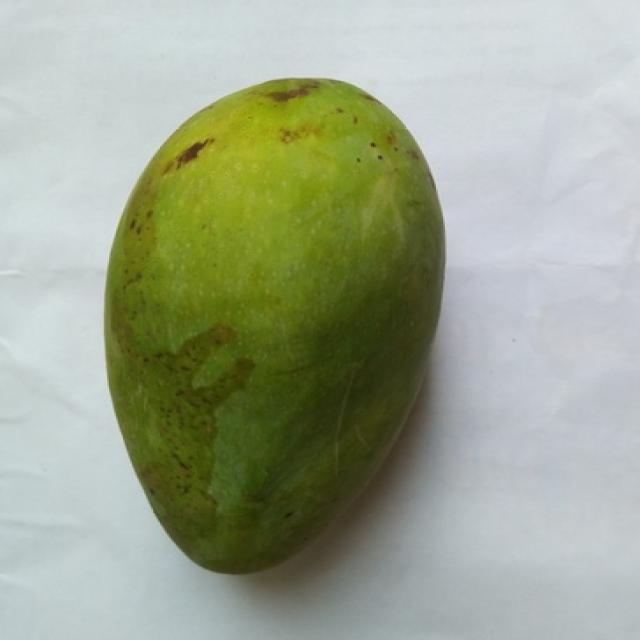Mango: (107, 78, 443, 573)
